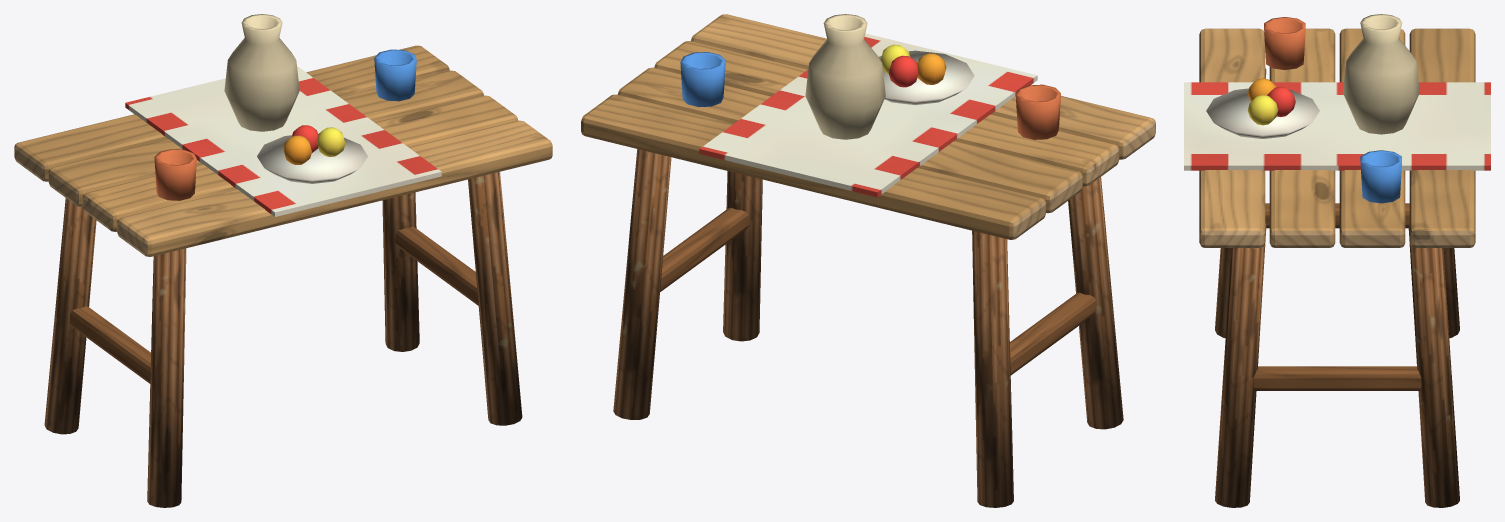
The model's file is camp_table.glb.
3 renders of one model, left to right at view 1: azimuth 30°, elevation 25°; view 2: azimuth 150°, elevation 25°; view 3: azimuth 270°, elevation 25°, orthographic. The views are drawn at different scales.
Visible parts, largest first — view 1: CampTable; view 2: CampTable; view 3: CampTable.
Boxes of the visible parts, x1,y1,x2,y2 form: CampTable: [14, 14, 552, 507]; CampTable: [581, 14, 1155, 507]; CampTable: [1184, 14, 1490, 507].
Size of the model in its own units: 1.1 by 0.9942 by 0.7.
Materials: 1 (1 with a texture image).
